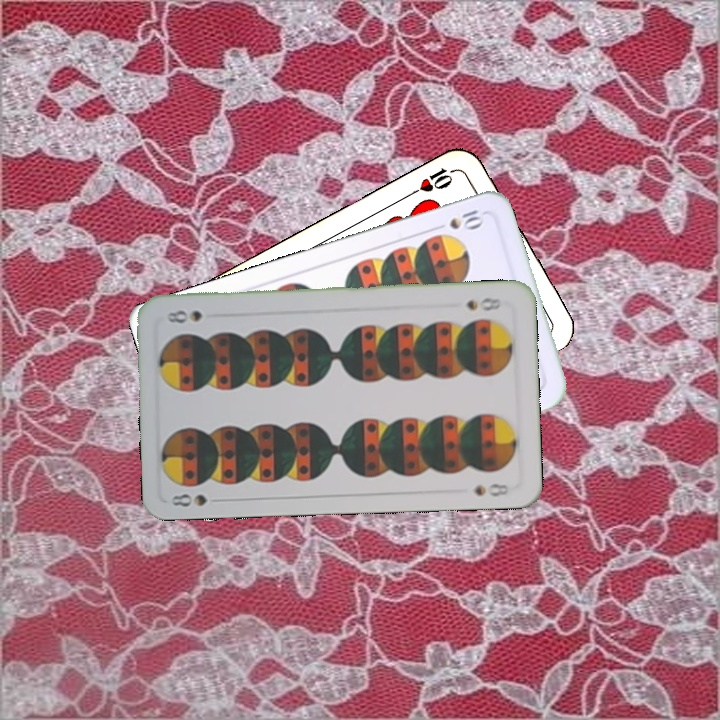H10: (407, 163, 462, 198)
S10: (429, 204, 487, 233)
S8: (167, 490, 226, 509), (463, 294, 504, 314)
